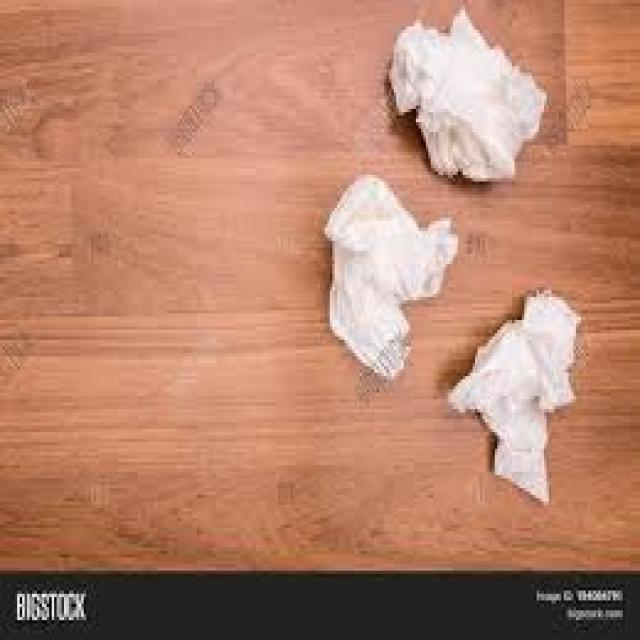tissue: (449, 291, 580, 502), (325, 176, 458, 379), (392, 10, 545, 180)
